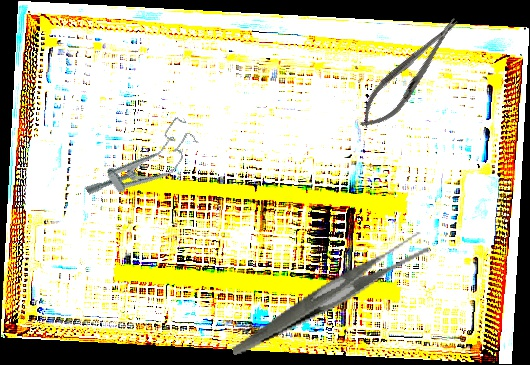Dressing Forceps: (216, 230, 442, 356)
Needle Holder: (350, 8, 470, 139)
Speculum: (79, 113, 206, 218)
